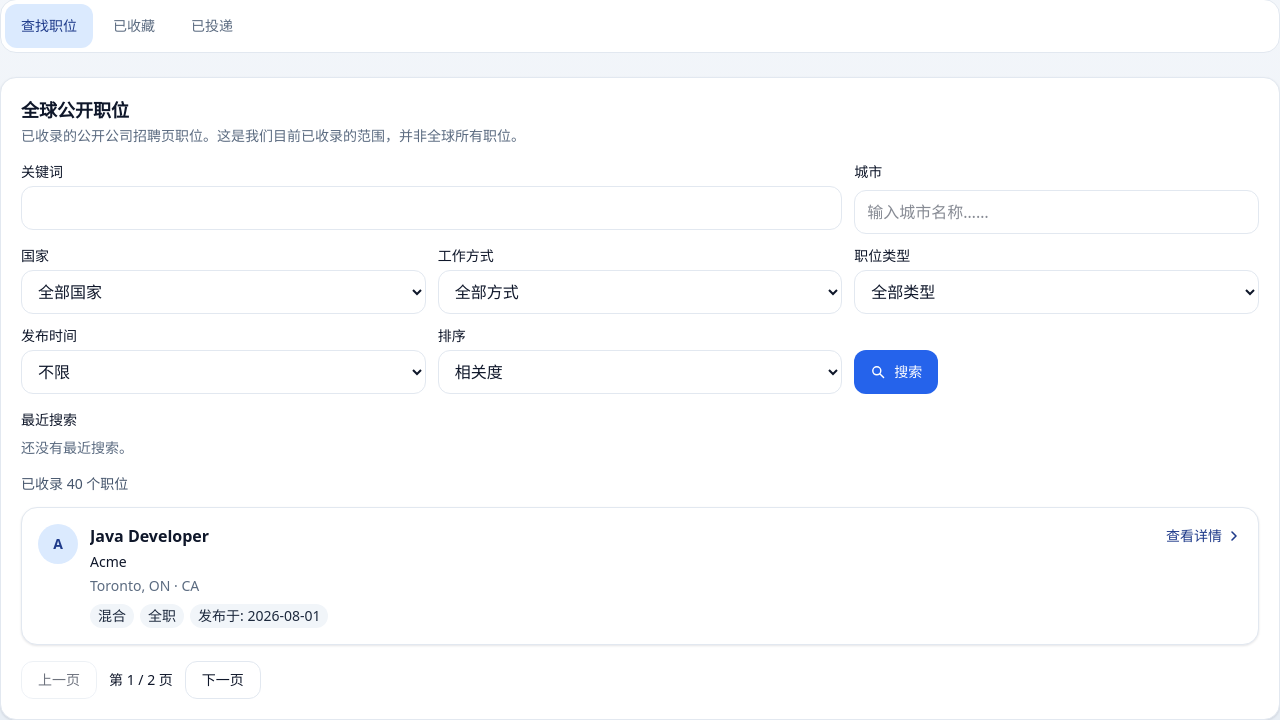
JobsPage catalog search › pages forward and back on the server
(page scrolled)
Check: the link "Java Developer" is shown, box [90, 524, 209, 548]
Click the button "下一页": (223, 680) [185, 661, 261, 699]
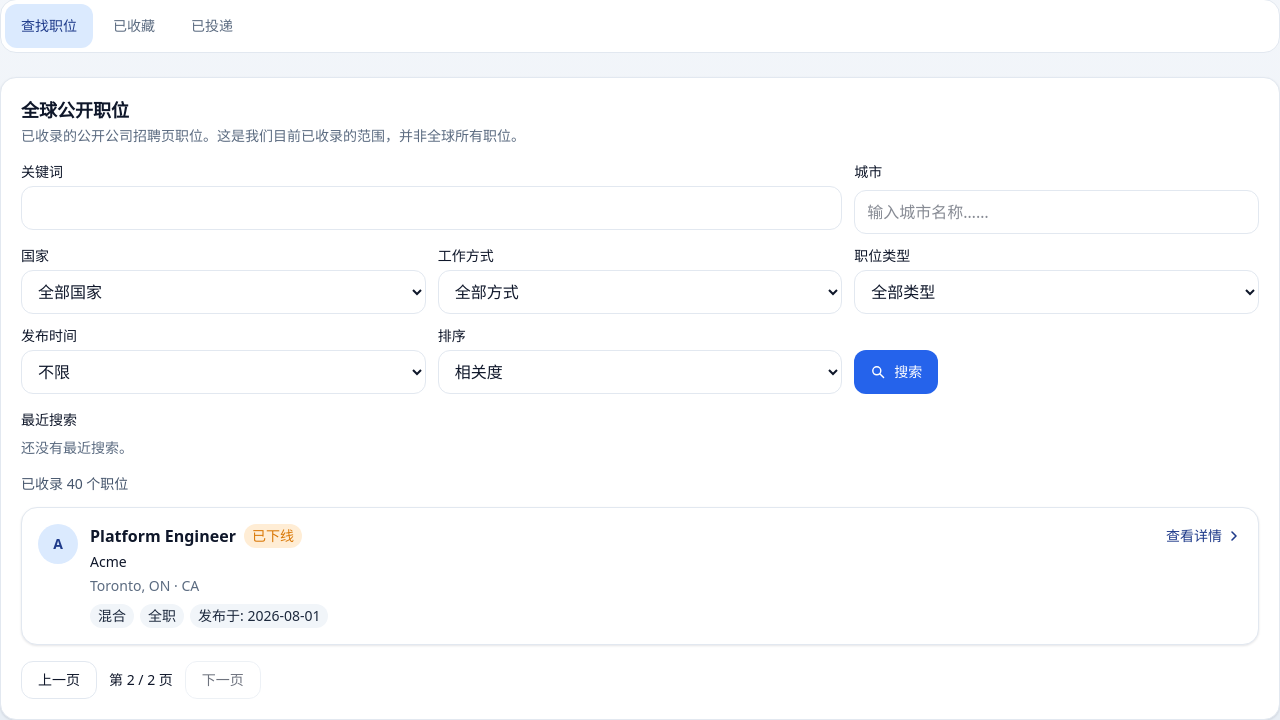
Check: the link "Platform Engineer" is shown, box [90, 524, 236, 548]
Click the button "上一页": (59, 680) [21, 661, 97, 699]
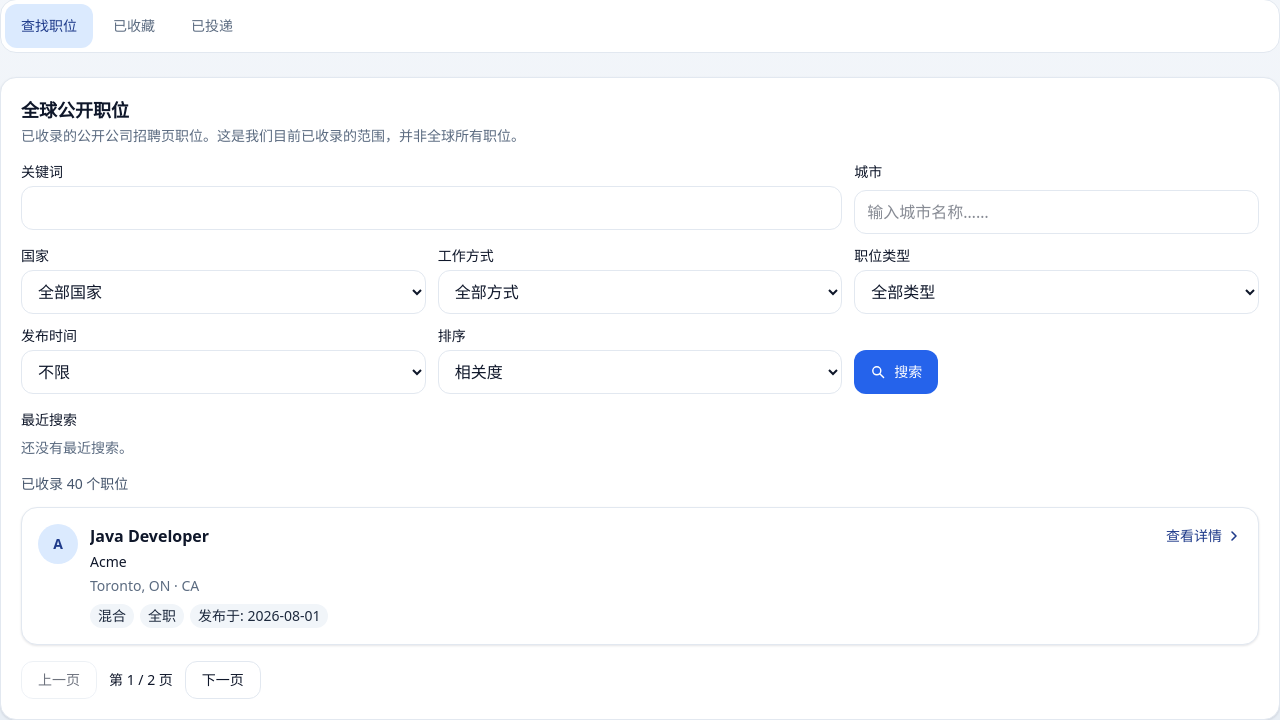
Check: the link "Java Developer" is shown, box [90, 524, 209, 548]
